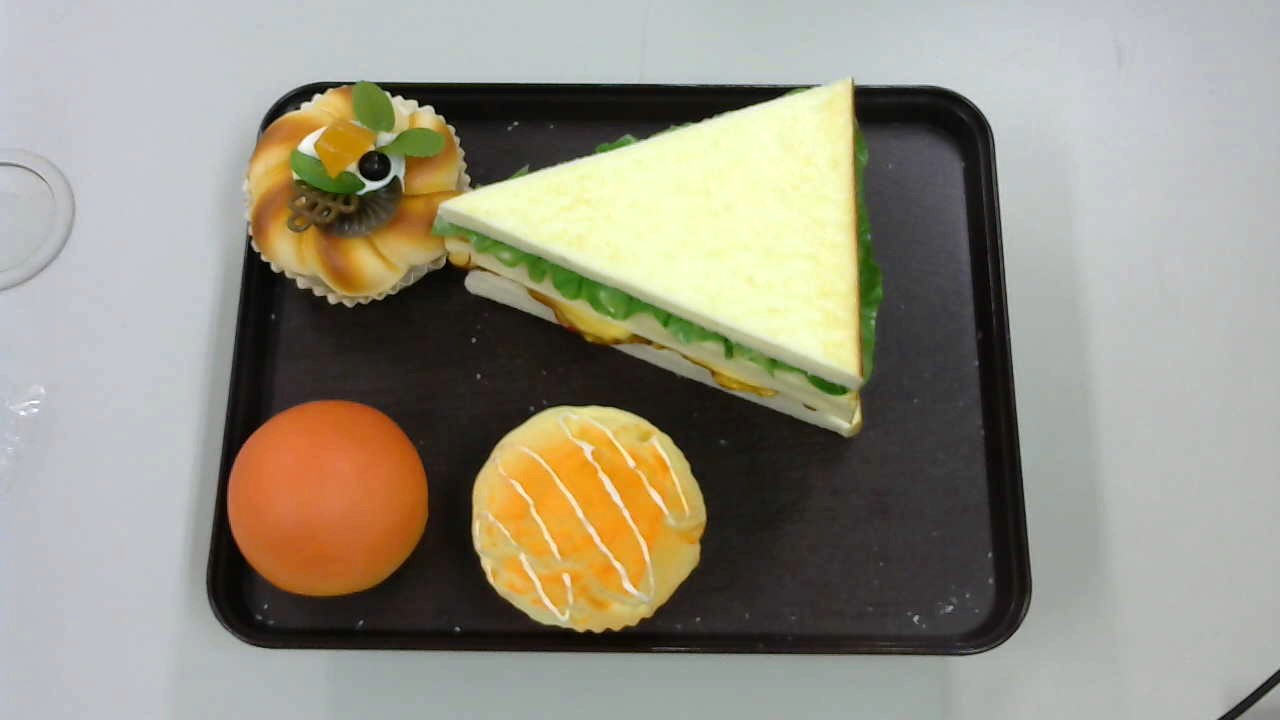bun: (225, 400, 431, 597)
cupcake: (471, 406, 707, 633)
fruit tart: (242, 79, 471, 307)
sandwich: (434, 79, 883, 437)
